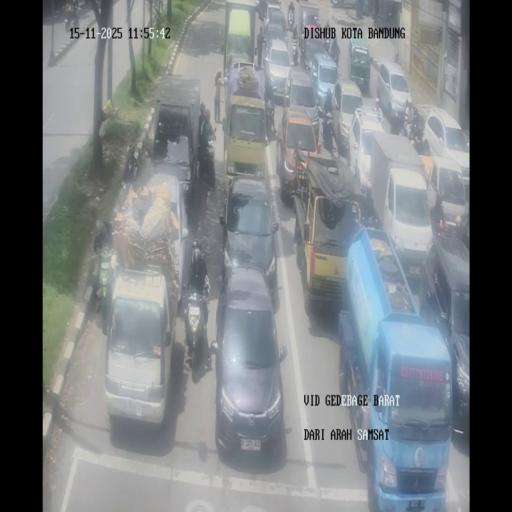car: (212, 269, 285, 463), (103, 263, 179, 432), (219, 176, 279, 299), (277, 108, 320, 202), (424, 154, 468, 236), (334, 78, 366, 155), (308, 52, 340, 116), (262, 39, 292, 102), (348, 36, 370, 90), (262, 3, 288, 40), (302, 10, 320, 36)
motorcycle: (183, 280, 212, 374), (91, 235, 118, 331), (196, 132, 216, 188), (357, 187, 379, 228), (321, 106, 337, 152), (122, 145, 137, 190), (265, 91, 277, 138), (410, 112, 425, 148), (66, 2, 80, 31), (389, 108, 403, 136), (298, 28, 306, 64), (330, 38, 340, 66), (291, 35, 299, 65), (375, 4, 385, 24), (323, 32, 331, 56), (257, 2, 266, 22), (287, 12, 295, 32), (375, 95, 382, 117)
truck: (339, 232, 451, 506), (292, 154, 366, 313), (365, 132, 432, 277), (149, 78, 203, 204), (223, 81, 269, 193), (223, 1, 257, 79)
